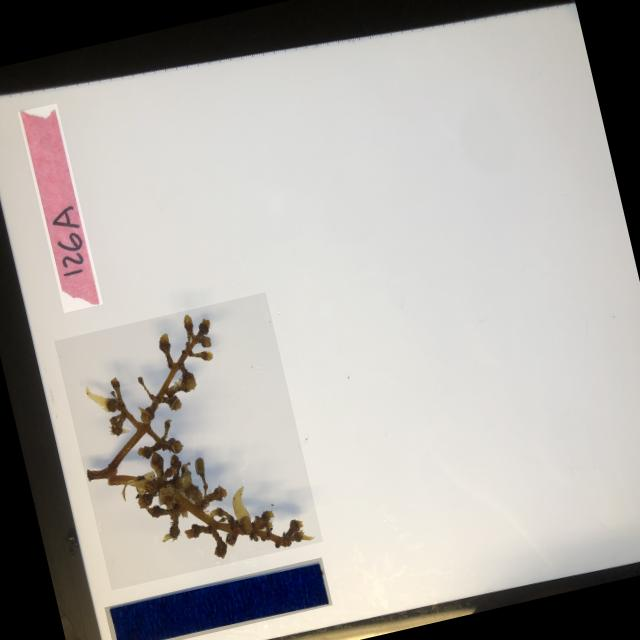index: (18, 101, 102, 312)
measure_label: (104, 556, 332, 640)
rachis_cluster: (54, 291, 322, 589)
